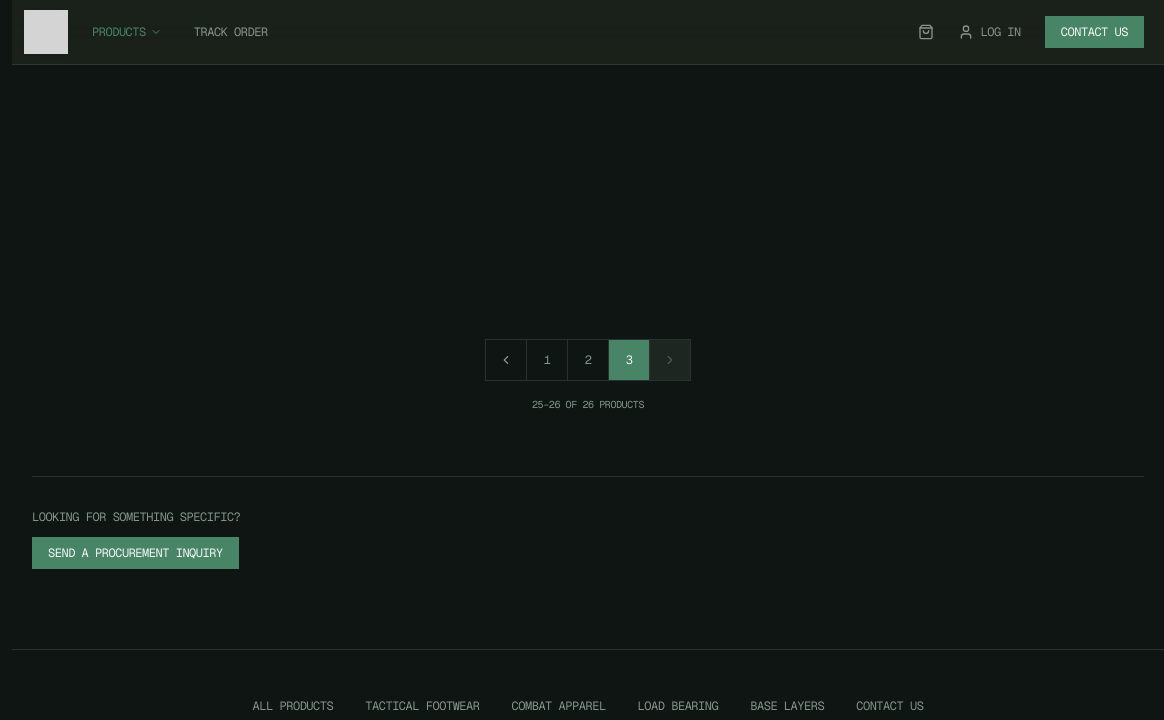
Test: Products page › pages through the results in the URL and starts again at page 1 when the filters change
The width and height of the screenshot is (1164, 720).
(page scrolled)
Check: the text with test id "page-summary" reads "25–26 of 26 products", box [532,397,644,412]
Check: the button named "Next page" is disabled, box [650,340,690,380]
Click the button named "Previous page".
click(506, 360)  # box [486,340,526,380]
(page scrolled)
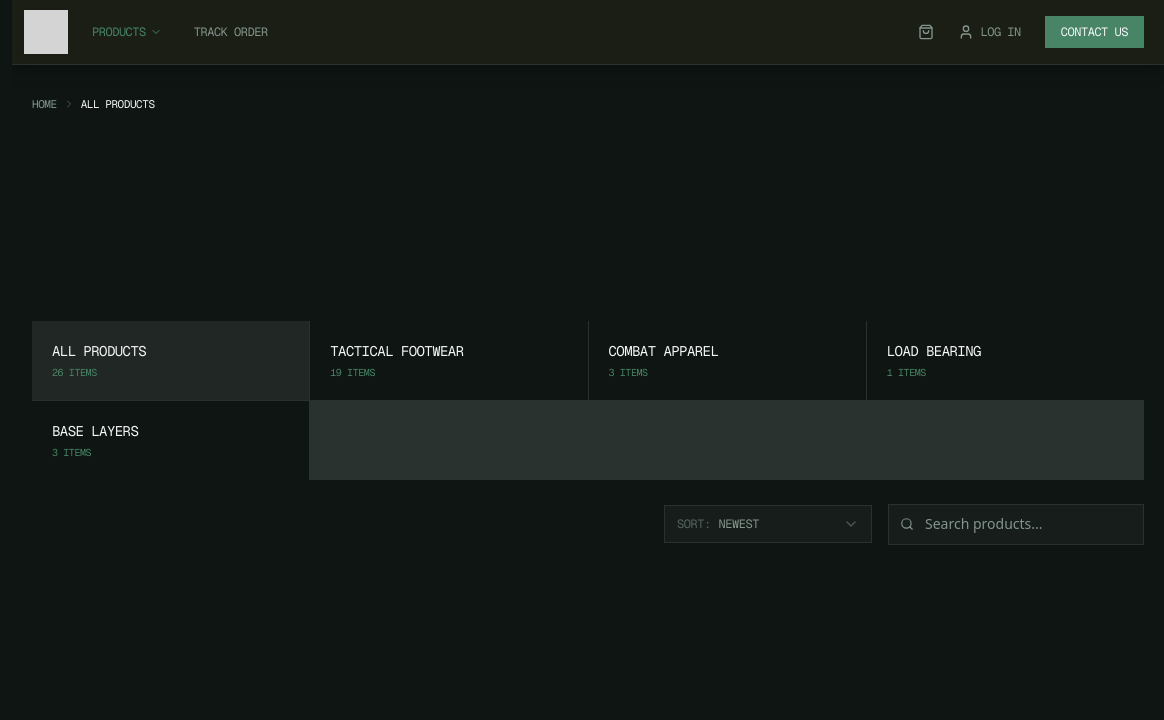
Click the button "Combat Apparel 3 items".
click(727, 361)  # box [588,321,866,400]
(page scrolled)
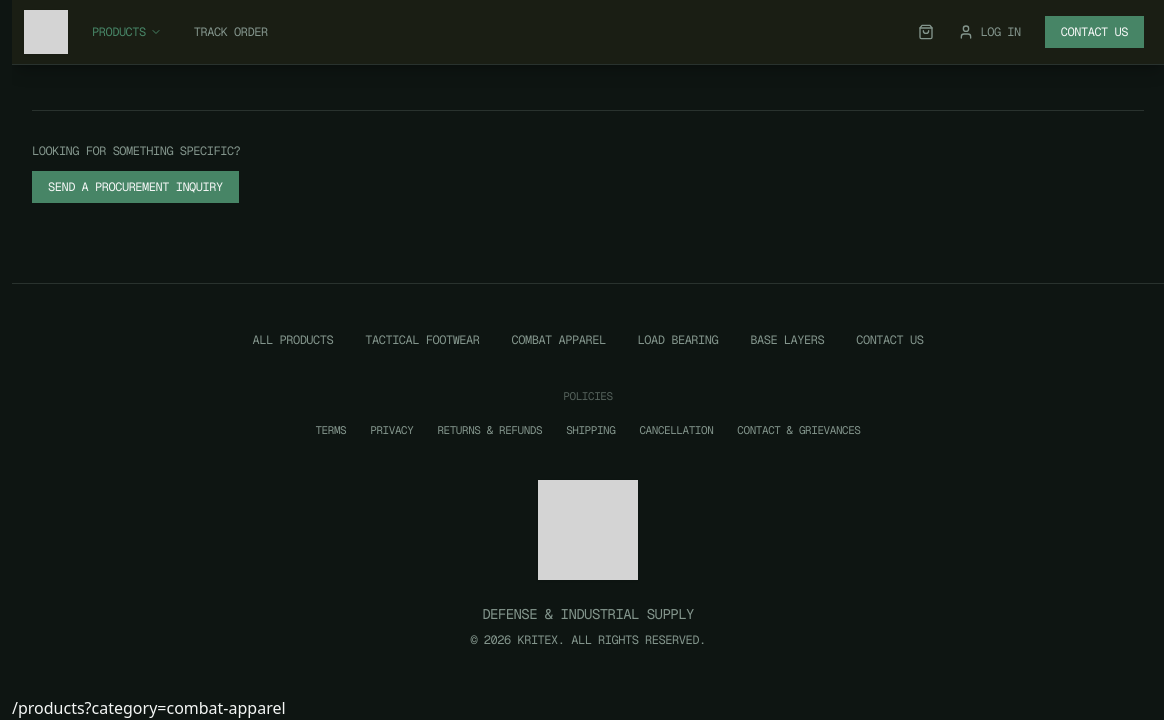
Check: the text with test id "location" reads "/products?category=combat-apparel", box [12,697,286,719]
